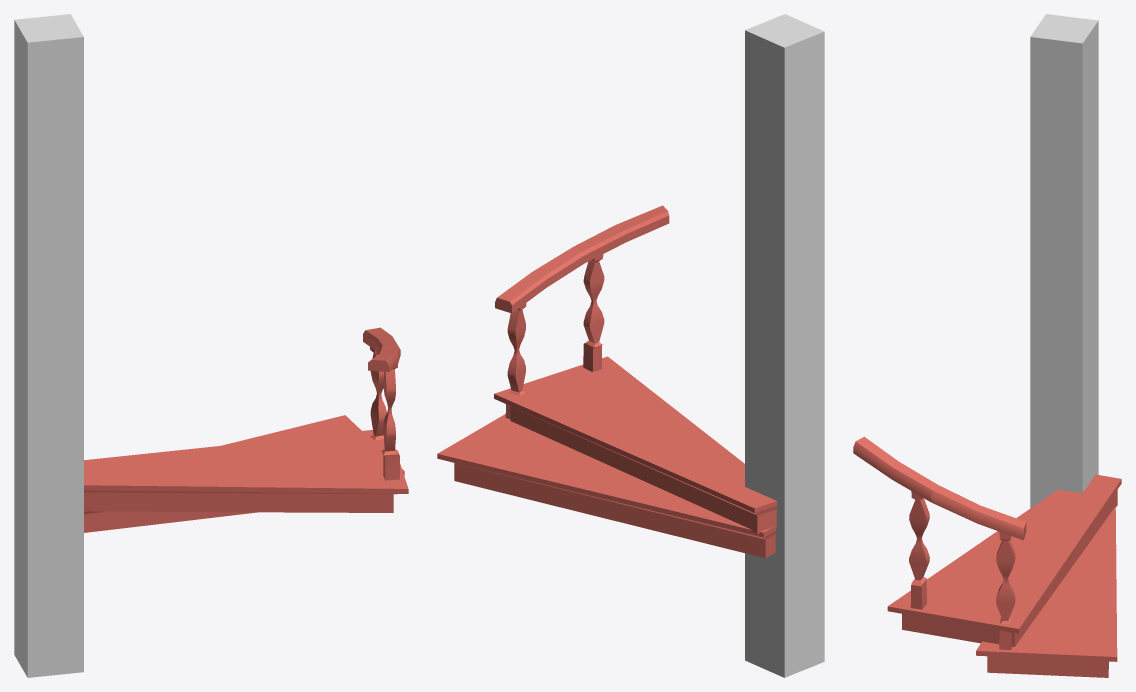
Rendered from Treppe 2.fbx.
3 views of the same model, side by side, from view 1: azimuth 30°, elevation 25°; view 2: azimuth 150°, elevation 25°; view 3: azimuth 270°, elevation 25° (orthographic). The views are drawn at different scales.
Visible parts, largest first — view 1: Cube.005, Cube.006, Cube.008; view 2: Cube.005, Cube.006, Cube.008; view 3: Cube.005, Cube.006, Cube.008.
Part boxes in pixels (bbox=[...]): Cube.005: bbox=[14, 14, 83, 677]; Cube.006: bbox=[84, 415, 408, 532]; Cube.008: bbox=[363, 327, 400, 480]; Cube.005: bbox=[745, 14, 824, 677]; Cube.006: bbox=[437, 356, 777, 558]; Cube.008: bbox=[495, 205, 669, 396]; Cube.005: bbox=[1030, 14, 1098, 508]; Cube.006: bbox=[887, 474, 1121, 677]; Cube.008: bbox=[853, 436, 1026, 624].
Size of the model in its own units: 382 by 655 by 256.
